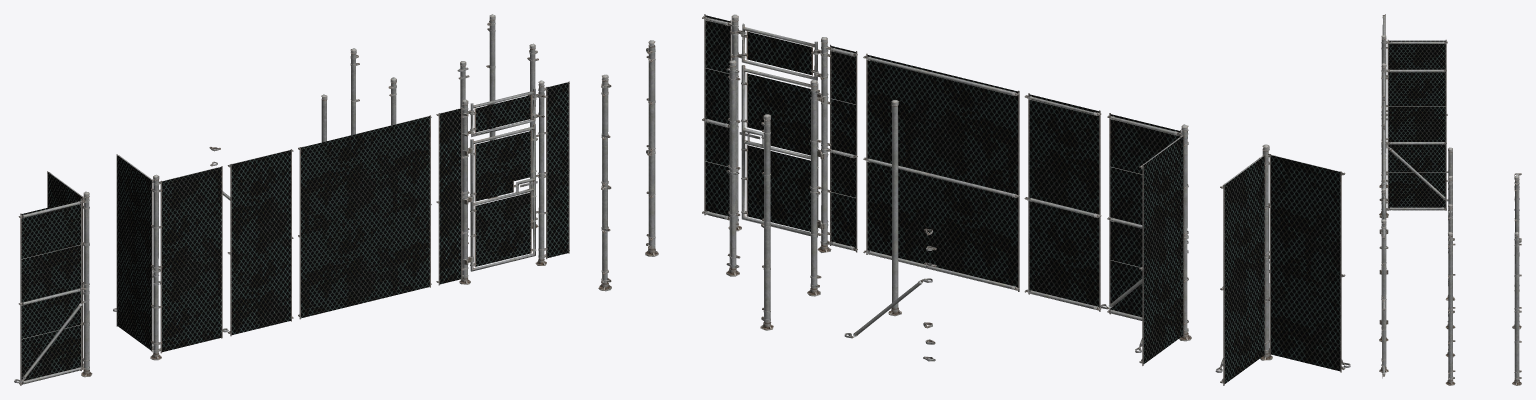
The model's file is fence-chainlink.19d0746b.glb.
3 renders of one model, left to right at view 1: azimuth 30°, elevation 25°; view 2: azimuth 150°, elevation 25°; view 3: azimuth 270°, elevation 25°, orthographic. The views are drawn at different scales.
Visible parts, largest first — view 1: model; view 2: model; view 3: model.
Boxes of the visible parts, <box> form: model: <box>14,14,569,385</box>; model: <box>598,14,1350,385</box>; model: <box>1379,14,1521,385</box>.
Size of the model in its own units: 8.11 by 2.52 by 2.15.
2 materials, 2 textured.
